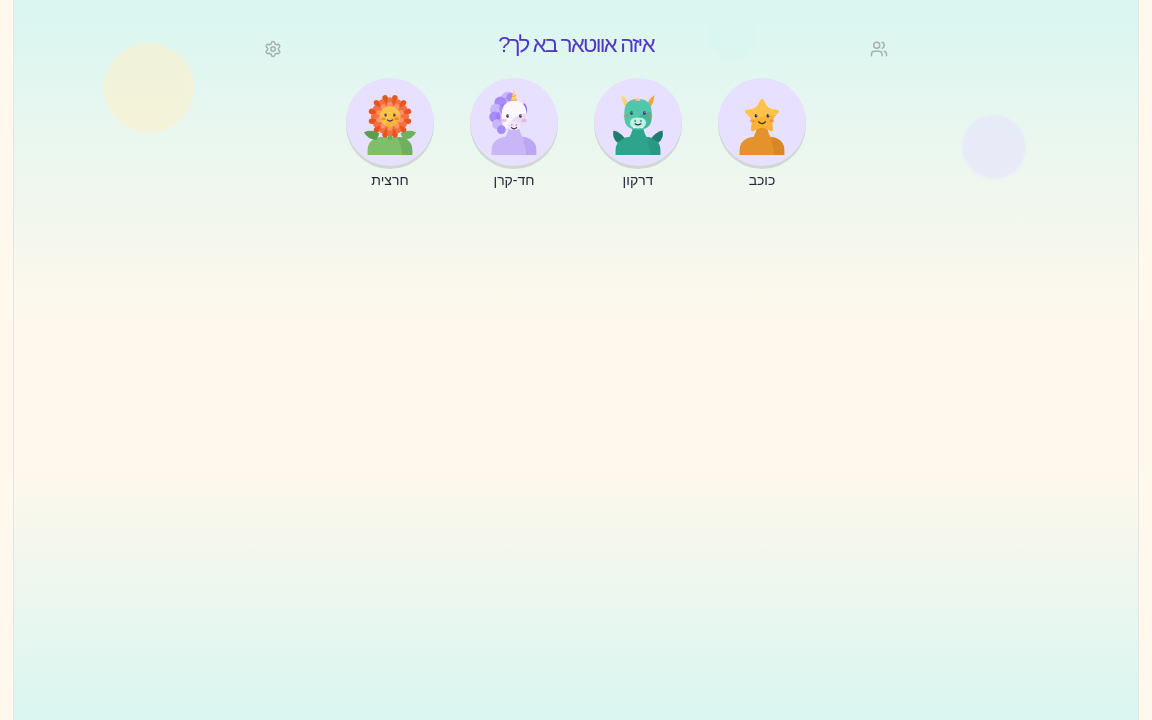
Test case: ChildHomePage — avatar picker › shows a localized error and keeps the picker open when saving the avatar fails
Step 1. Click the button "כוכב" → (762, 133), box [710,78,814,188]
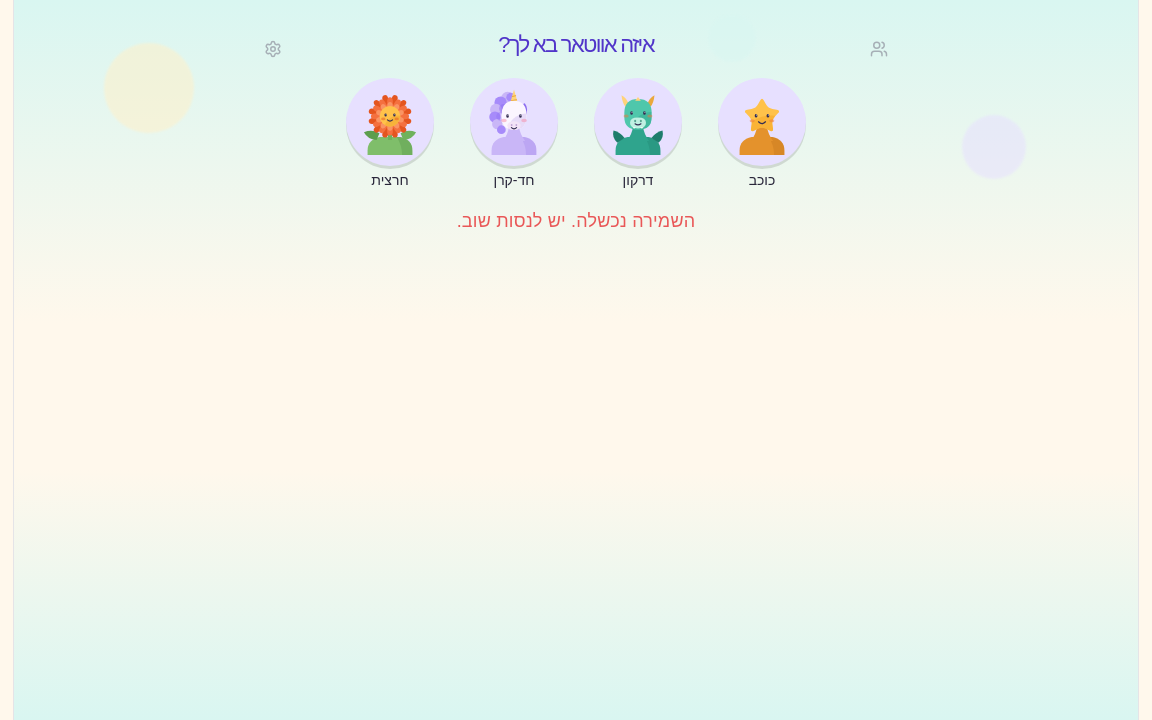
Expected: the heading "איזה אווטאר בא לך?" is shown, [498,32,654,58]
Now the text "השמירה נכשלה. יש לנסות שוב." is shown, box [457,208,695,234]
